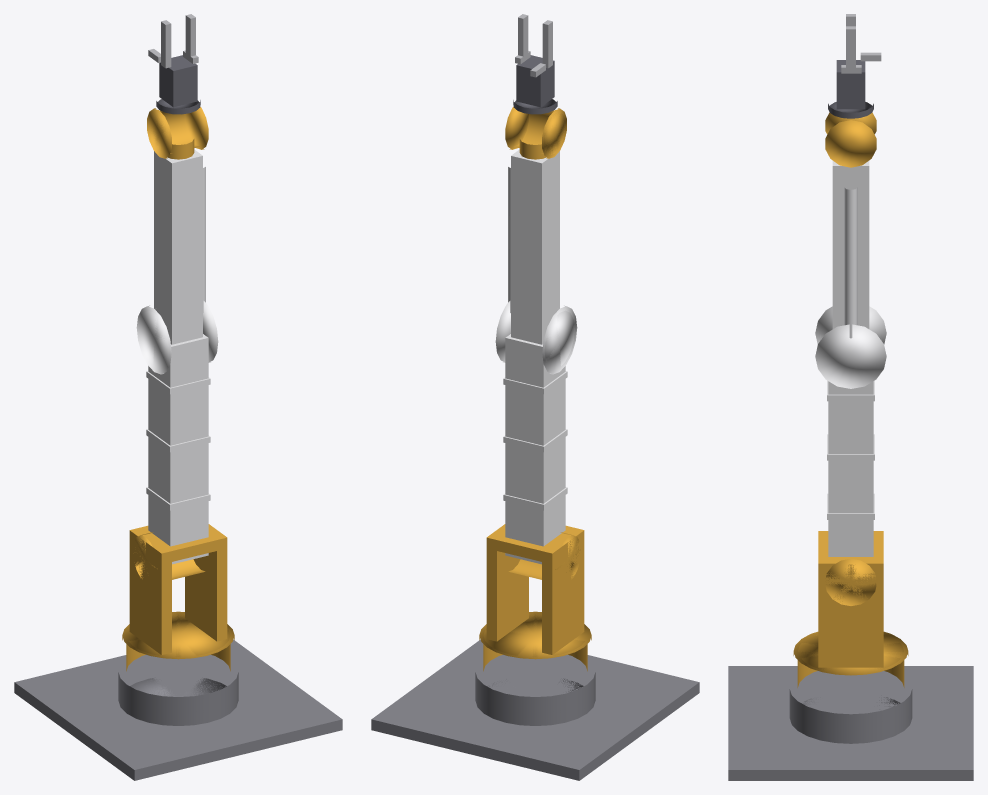
The model's file is robotic_arm_6dof.glb.
3 views of the same model, side by side, from view 1: azimuth 30°, elevation 25°; view 2: azimuth 150°, elevation 25°; view 3: azimuth 270°, elevation 25° (orthographic). The views are drawn at different scales.
Visible parts, largest first — view 1: base_plate, j3_upper_arm, j2_shoulder, j4_forearm, j1_turntable, j5_wrist, j6_end_effector, gripper_left; view 2: base_plate, j3_upper_arm, j2_shoulder, j4_forearm, j1_turntable, j5_wrist, j6_end_effector, gripper_left; view 3: base_plate, j3_upper_arm, j2_shoulder, j4_forearm, j5_wrist, j1_turntable, j6_end_effector, gripper_right.
Boxes of the visible parts, <box> form: base_plate: <box>14,639,342,780</box>; j3_upper_arm: <box>136,301,218,564</box>; j2_shoulder: <box>129,524,227,654</box>; j4_forearm: <box>154,149,205,344</box>; j1_turntable: <box>122,611,234,671</box>; j5_wrist: <box>147,107,208,159</box>; j6_end_effector: <box>156,55,200,114</box>; gripper_left: <box>148,20,171,68</box>; base_plate: <box>371,639,699,780</box>; j3_upper_arm: <box>495,301,577,564</box>; j2_shoulder: <box>486,524,584,654</box>; j4_forearm: <box>508,149,559,344</box>; j1_turntable: <box>479,611,591,671</box>; j5_wrist: <box>505,107,566,159</box>; j6_end_effector: <box>513,55,557,114</box>; gripper_left: <box>530,20,552,77</box>; base_plate: <box>728,666,973,780</box>; j3_upper_arm: <box>815,306,886,556</box>; j2_shoulder: <box>818,531,883,667</box>; j4_forearm: <box>832,161,869,338</box>; j5_wrist: <box>825,112,876,167</box>; j1_turntable: <box>793,631,908,687</box>; j6_end_effector: <box>828,60,873,118</box>; gripper_right: <box>841,26,861,73</box>.
Bounding box in the file's own units: 0.3 × 0.9538 × 0.3.
